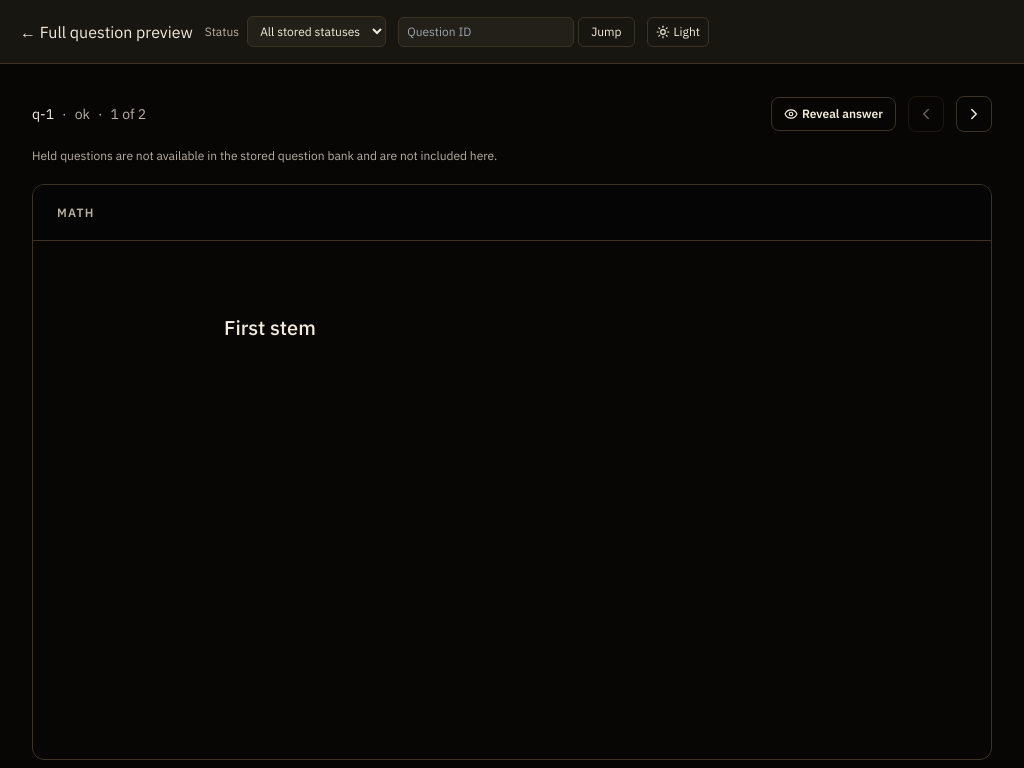
Test: RapidReviewClient › keeps answers hidden until explicit reveal, filters and jumps by ID
Expected: the text "First stem" is shown, [224, 314, 316, 341]
Select "needs_review" in the dropdown named "Filter by status" at (317, 32), box [247, 16, 386, 47]
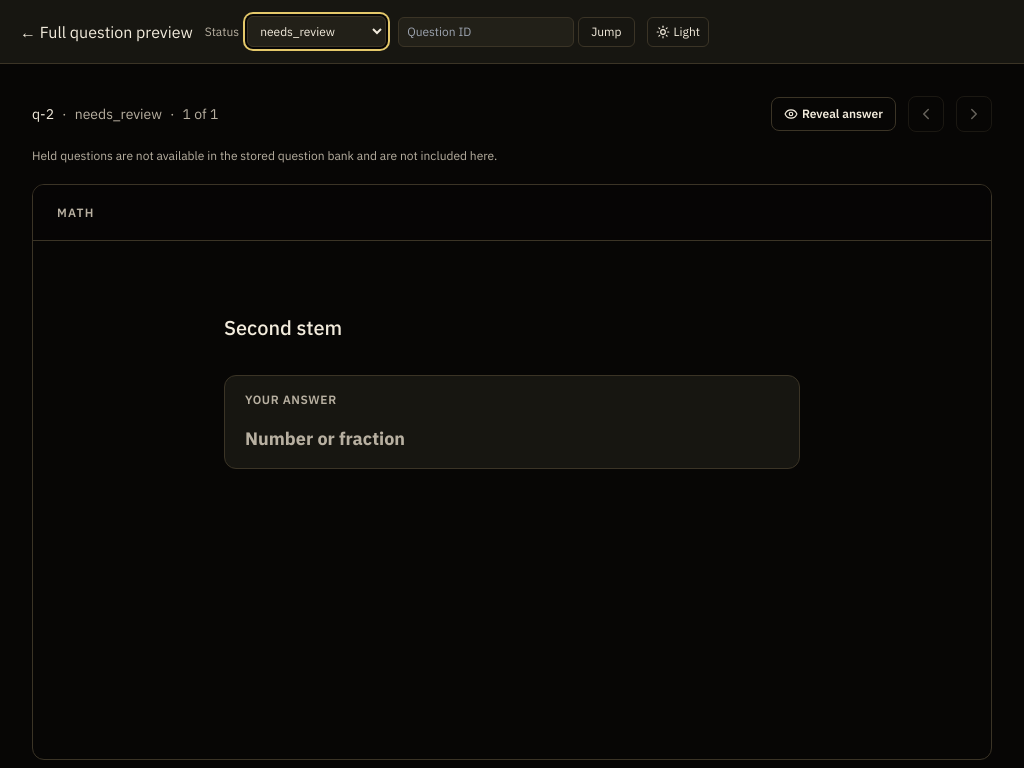
Result: the text "Second stem" is shown at [224, 314, 342, 341]
Click the button "Reveal answer" at (833, 114), box [771, 97, 896, 131]
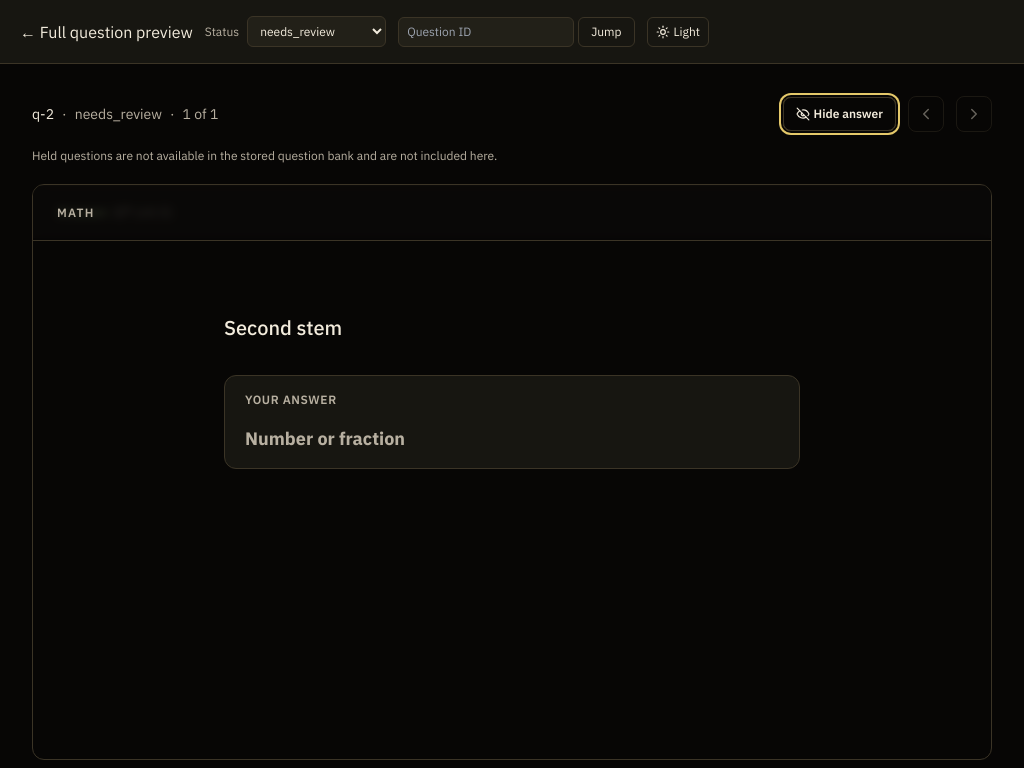
Expected: the text "Answer:" is shown, [57, 203, 114, 221]
Select "All stored statuses" in the dropdown named "Filter by status" at (317, 32), box [247, 16, 386, 47]
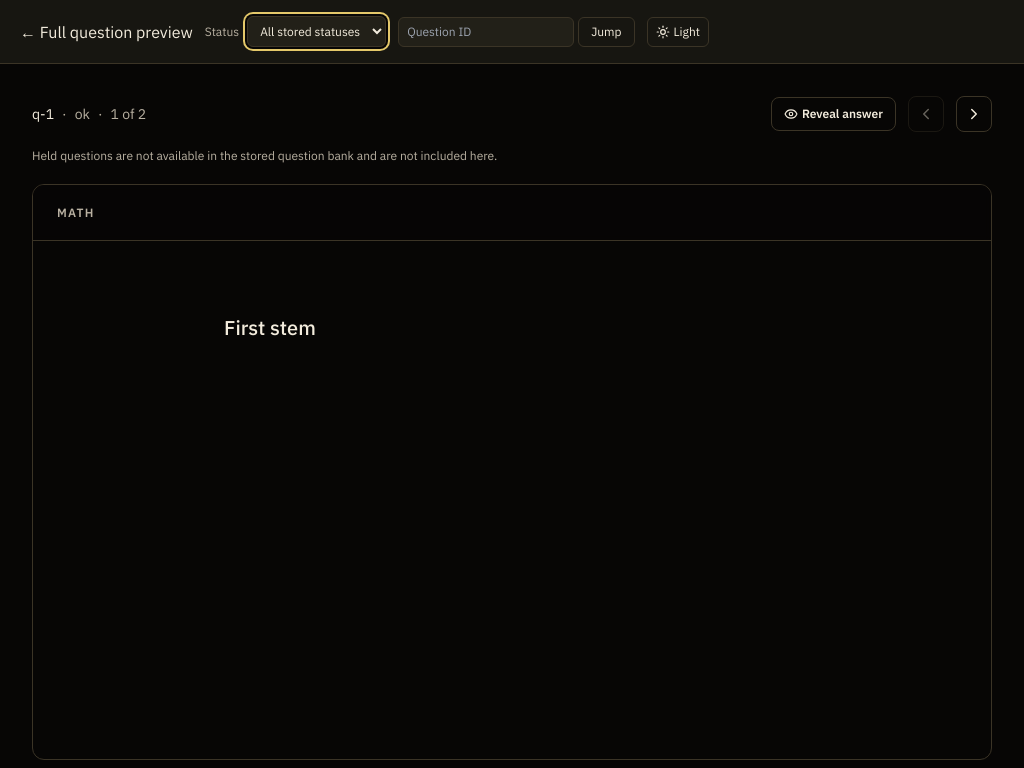
Click the button named "Next question" at (974, 114), box [956, 96, 992, 132]
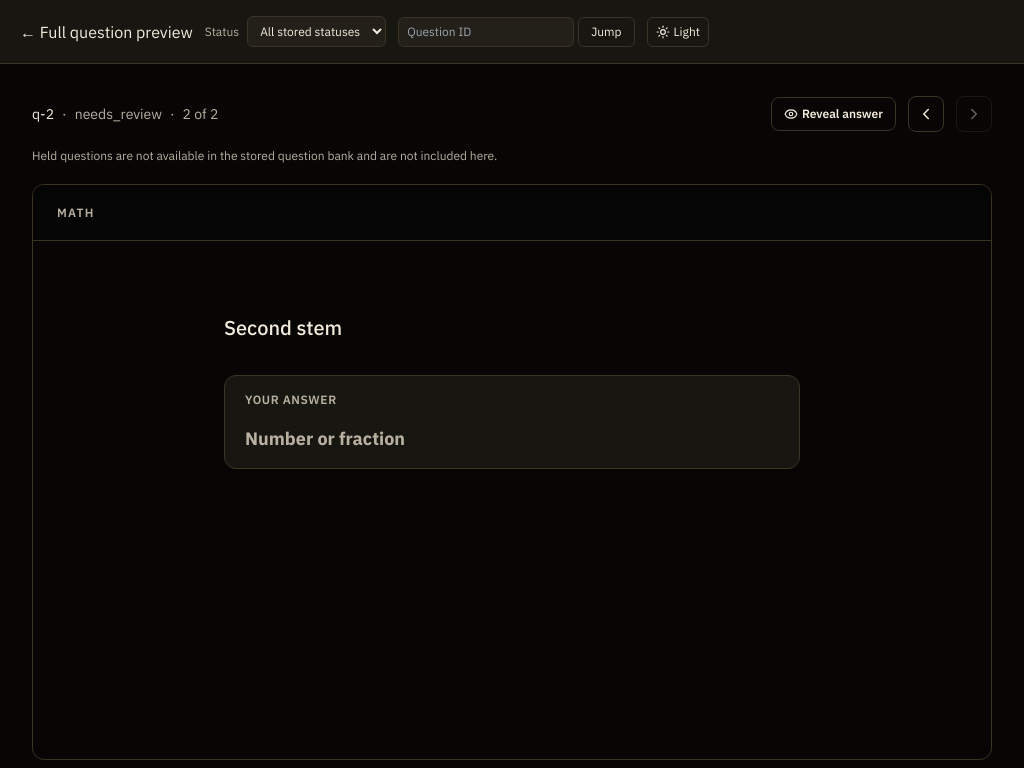
Expected: the text "17" is not shown
Type "q-1" into the field named "Jump to question ID" at (486, 32), box [398, 16, 574, 46]
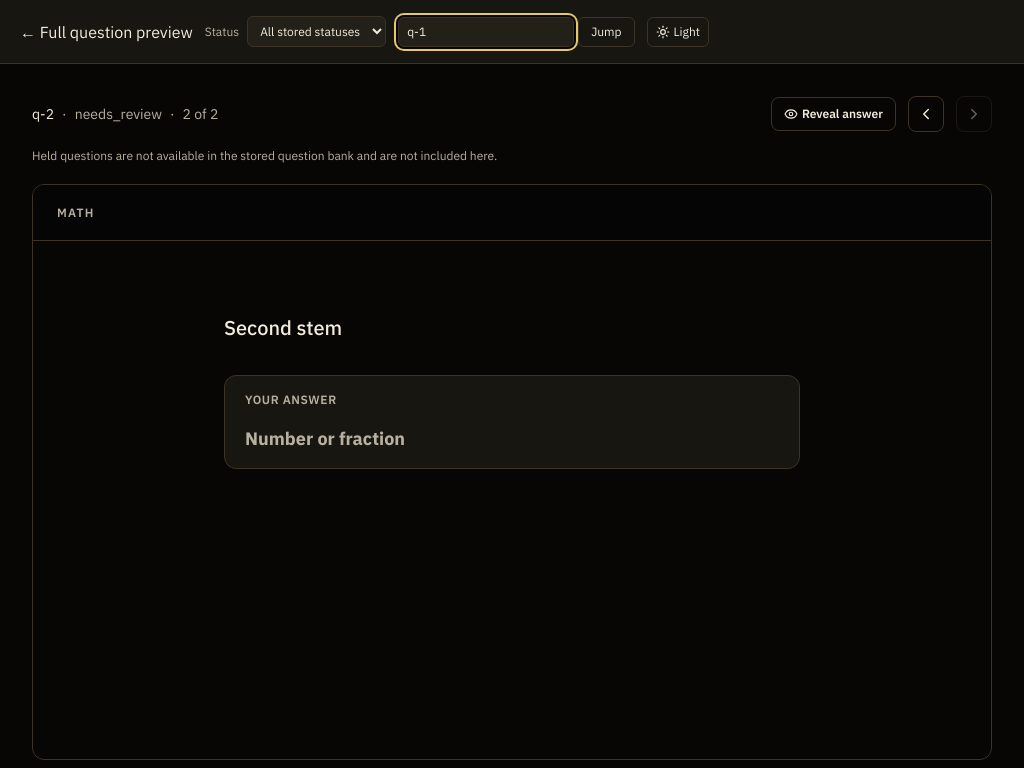
Click the button "Jump" at (606, 32), box [578, 16, 635, 46]
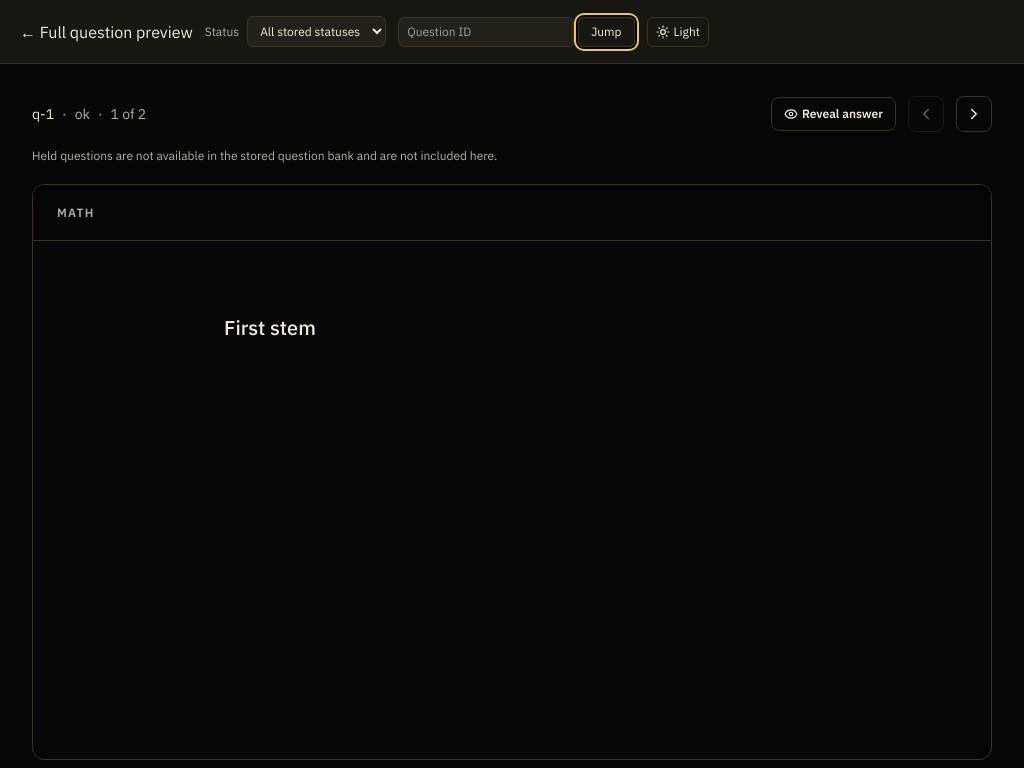
Result: the text "First stem" is shown at [224, 314, 316, 341]
